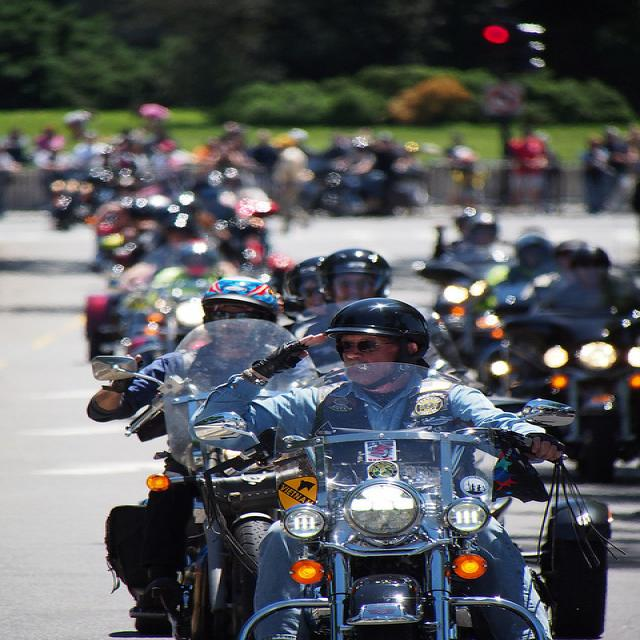motor: (194, 363, 573, 640), (90, 319, 288, 630), (481, 270, 640, 485), (430, 243, 606, 387), (52, 146, 154, 230), (301, 162, 431, 216), (137, 296, 208, 366), (439, 148, 503, 199), (83, 290, 123, 370), (411, 259, 488, 288)
